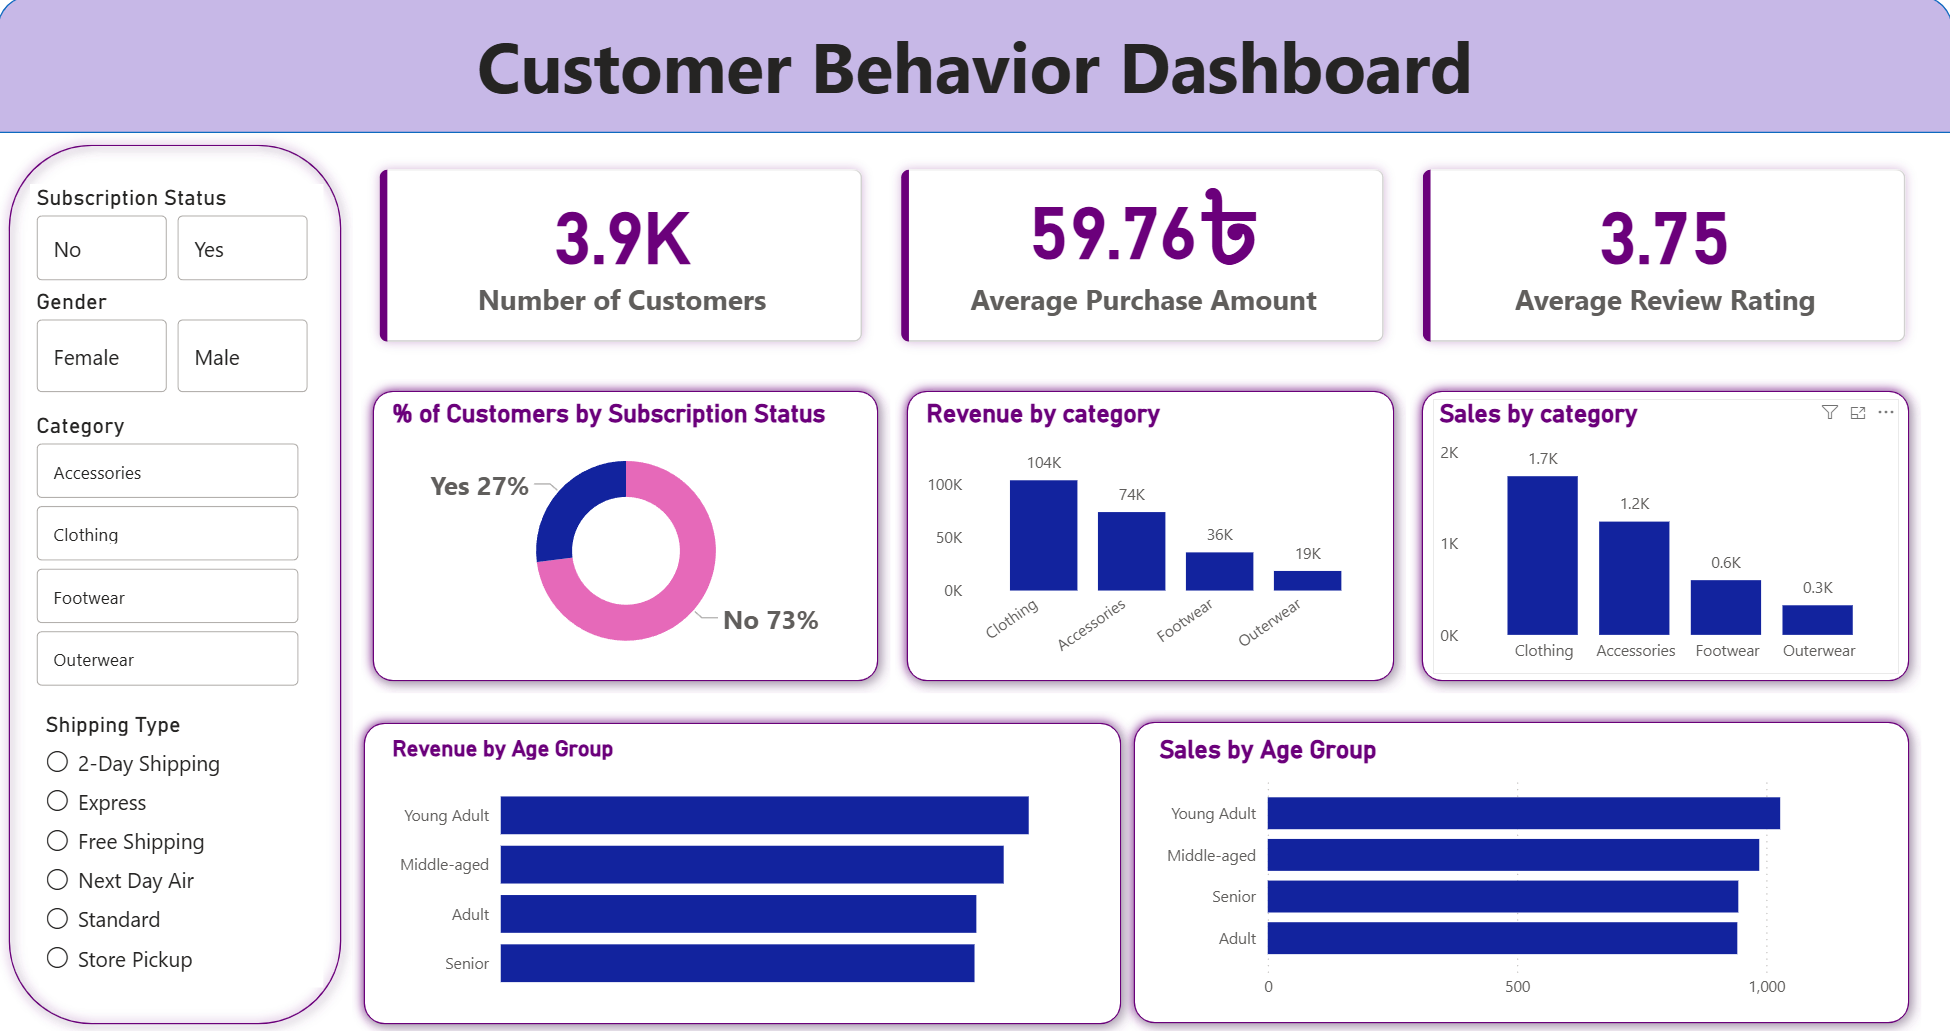

This screenshot's page, from the dashboard's own definition file:
{"tool":"powerbi","page":{"name":"Page 1","canvas":[1500,820],"ordinal":0},"visuals":[{"type":"cardVisual","fields":{"Data":["public customer.Number of Customers","public customer.Average Purchase Amount","public customer.Average Review Rating"]},"box":[265.3,127.3,1226.2,188.7],"z":0},{"type":"shape","box":[0,21.5,1500,105.8],"z":1000},{"type":"textbox","box":[0,33.7,1500,93.6],"z":2000},{"type":"shape","box":[279.1,316,405.7,240.8],"z":3000},{"type":"donutChart","title":"% of Customers by  Subscription Status","fields":{"Category":["public customer.subscription_status"],"Y":["CountNonNull(public customer.customer_id)"]},"box":[298.3,331.3,368.1,210.9],"z":4000},{"type":"shape","box":[688.7,316,391.9,240.8],"z":5000},{"type":"shape","box":[1083.6,316,391.9,240.8],"z":6000},{"type":"clusteredColumnChart","title":"Revenue by category","fields":{"Y":["Sum(public customer.purchase_amount)"],"Category":["public customer.category"]},"box":[707.8,331.3,357.4,210.9],"z":7000},{"type":"clusteredColumnChart","title":"Sales by category","fields":{"Y":["CountNonNull(public customer.customer_id)"],"Category":["public customer.category"]},"box":[1101.2,331.3,357.4,210.9],"z":8000},{"type":"shape","box":[0,127.3,273,692.5],"z":9000},{"type":"advancedSlicerVisual","fields":{"Values":["public customer.subscription_status"]},"box":[25.3,166.4,224.7,79.8],"z":10000},{"type":"advancedSlicerVisual","fields":{"Values":["public customer.gender"]},"box":[25.3,246.2,224.7,85.1],"z":11000},{"type":"advancedSlicerVisual","fields":{"Values":["public customer.category"]},"box":[25.3,341.3,224.7,215.5],"z":12000},{"type":"listSlicer","fields":{"Values":["public customer.shipping_type"]},"box":[32.2,570.6,217.8,212.4],"z":13000},{"type":"shape","box":[862.7,569.8,612.7,249.2],"z":15000},{"type":"clusteredBarChart","title":"Sales by Age Group","fields":{"Y":["CountNonNull(public customer.customer_id)"],"Category":["public customer.age_group"]},"box":[886.5,589,566.7,210.9],"z":16000},{"type":"shape","box":[272.2,570.6,598.9,249.2],"z":17000},{"type":"clusteredBarChart","title":"Revenue by Age Group","fields":{"Y":["Sum(public customer.purchase_amount)"],"Category":["public customer.age_group"]},"box":[298.3,589,549.1,210.9],"z":17001}]}

Visuals, with their boxes on the page's 1500x820 design canvas (x1, y1, x2, y2). These are canvas units, not pixel positions in the 1950x1031 screenshot, which may show the page scaled, cropped or inside an application window:
cardVisual - public customer.Number of Customers x public customer.Average Purchase Amount: locate(265, 127, 1492, 316)
shape: locate(0, 22, 1500, 127)
textbox: locate(0, 34, 1500, 127)
shape: locate(279, 316, 685, 557)
"% of Customers by  Subscription Status" donutChart: locate(298, 331, 666, 542)
shape: locate(689, 316, 1081, 557)
shape: locate(1084, 316, 1476, 557)
"Revenue by category" clusteredColumnChart: locate(708, 331, 1065, 542)
"Sales by category" clusteredColumnChart: locate(1101, 331, 1459, 542)
shape: locate(0, 127, 273, 820)
advancedSlicerVisual - public customer.subscription_status: locate(25, 166, 250, 246)
advancedSlicerVisual - public customer.gender: locate(25, 246, 250, 331)
advancedSlicerVisual - public customer.category: locate(25, 341, 250, 557)
listSlicer - public customer.shipping_type: locate(32, 571, 250, 783)
shape: locate(863, 570, 1475, 819)
"Sales by Age Group" clusteredBarChart: locate(886, 589, 1453, 800)
shape: locate(272, 571, 871, 820)
"Revenue by Age Group" clusteredBarChart: locate(298, 589, 847, 800)
